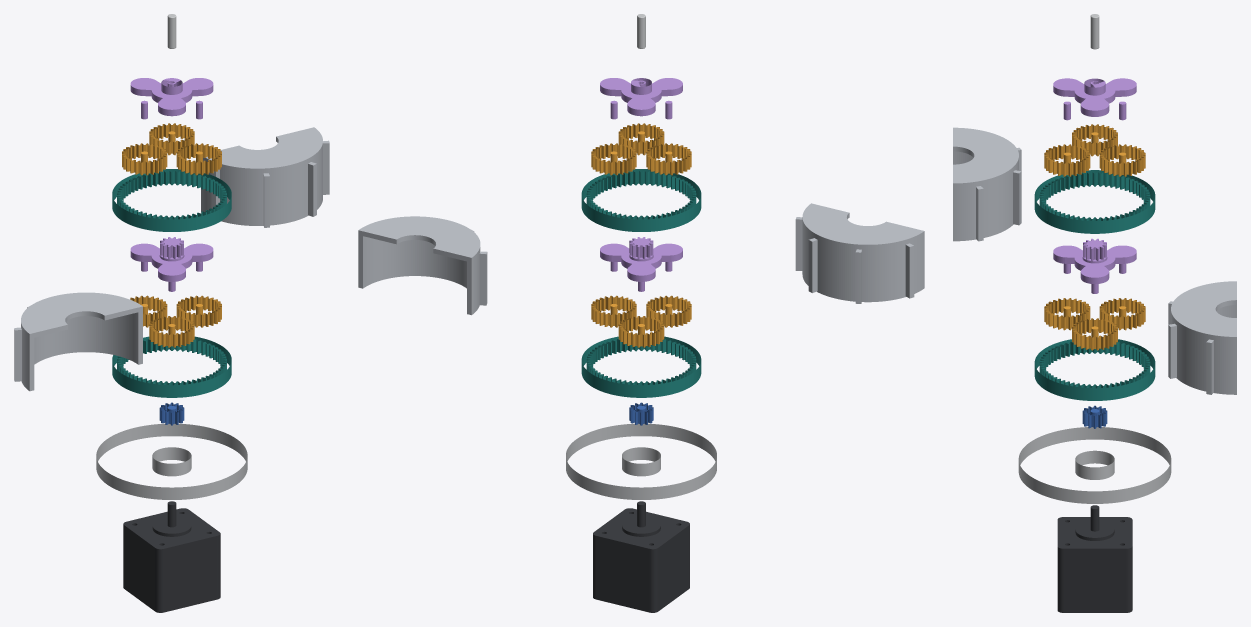
The picture shows the model from 3 angles, left to right: view 1: azimuth 30°, elevation 25°; view 2: azimuth 150°, elevation 25°; view 3: azimuth 270°, elevation 25°; orthographic projection.
Visible parts, largest first — view 1: Housing_A.001, NEMA17_Motor.001, Housing_B.001, Front_flange.001, Ring_2.001, Ring_1.001, Carrier_1.001, Carrier_2.001, Planet_1_3.001, Planet_2_2.001, Planet_2_3.001, Planet_1_1.001 (+3 smaller); view 2: Housing_B.001, NEMA17_Motor.001, Housing_A.001, Front_flange.001, Ring_2.001, Ring_1.001, Carrier_1.001, Carrier_2.001, Planet_2_1.001, Planet_2_2.001, Planet_1_2.001, Planet_1_1.001 (+2 smaller); view 3: NEMA17_Motor.001, Housing_B.001, Housing_A.001, Front_flange.001, Ring_2.001, Ring_1.001, Carrier_1.001, Carrier_2.001, Planet_2_1.001, Planet_2_3.001, Planet_1_1.001, Planet_1_2.001 (+3 smaller).
Boxes of the visible parts, left/top/right/bottom form: Housing_A.001: left=201, top=127, right=329, bottom=227; NEMA17_Motor.001: left=123, top=501, right=220, bottom=612; Housing_B.001: left=14, top=292, right=142, bottom=391; Front_flange.001: left=96, top=423, right=247, bottom=499; Ring_2.001: left=112, top=169, right=231, bottom=231; Ring_1.001: left=112, top=336, right=231, bottom=397; Carrier_1.001: left=130, top=237, right=213, bottom=291; Carrier_2.001: left=130, top=78, right=213, bottom=119; Planet_1_3.001: left=149, top=316, right=194, bottom=347; Planet_2_2.001: left=122, top=143, right=167, bottom=175; Planet_2_3.001: left=176, top=143, right=221, bottom=175; Planet_1_1.001: left=176, top=295, right=221, bottom=327; Housing_B.001: left=795, top=203, right=924, bottom=303; NEMA17_Motor.001: left=593, top=501, right=689, bottom=612; Housing_A.001: left=358, top=216, right=487, bottom=315; Front_flange.001: left=566, top=423, right=716, bottom=499; Ring_2.001: left=581, top=169, right=701, bottom=231; Ring_1.001: left=581, top=336, right=701, bottom=397; Carrier_1.001: left=600, top=237, right=682, bottom=291; Carrier_2.001: left=600, top=78, right=682, bottom=119; Planet_2_1.001: left=591, top=143, right=636, bottom=175; Planet_2_2.001: left=646, top=143, right=691, bottom=175; Planet_1_2.001: left=618, top=316, right=664, bottom=347; Planet_1_1.001: left=591, top=295, right=636, bottom=327; NEMA17_Motor.001: left=1057, top=505, right=1132, bottom=612; Housing_B.001: left=953, top=127, right=1021, bottom=241; Housing_A.001: left=1168, top=281, right=1236, bottom=394; Front_flange.001: left=1018, top=427, right=1171, bottom=503; Ring_2.001: left=1034, top=170, right=1155, bottom=233; Ring_1.001: left=1034, top=339, right=1155, bottom=400; Carrier_1.001: left=1053, top=238, right=1136, bottom=293; Carrier_2.001: left=1053, top=78, right=1136, bottom=120; Planet_2_1.001: left=1099, top=144, right=1145, bottom=176; Planet_2_3.001: left=1044, top=144, right=1090, bottom=176; Planet_1_1.001: left=1072, top=318, right=1117, bottom=350; Planet_1_2.001: left=1099, top=298, right=1145, bottom=330.
Bounding box in the file's own units: 282 × 362 × 160.
